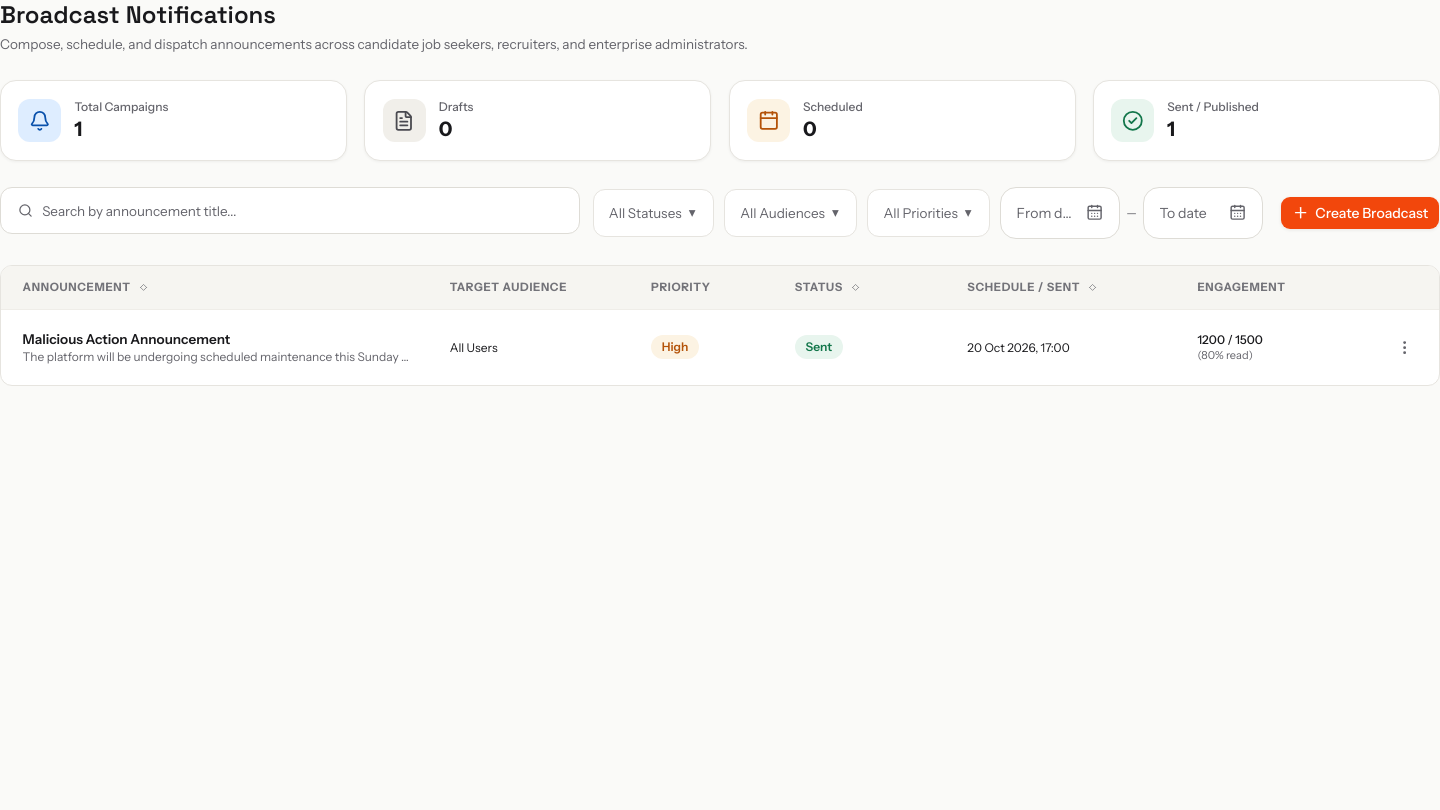
Broadcast Notifications Feature Tests (UC 01 - UC 07) › blocks unsafe javascript: URLs from rendering as clickable links in detail dialog
Click the text "Malicious Action Announcement" at x=126, y=339, box x1=23 y1=331 x2=230 y2=347
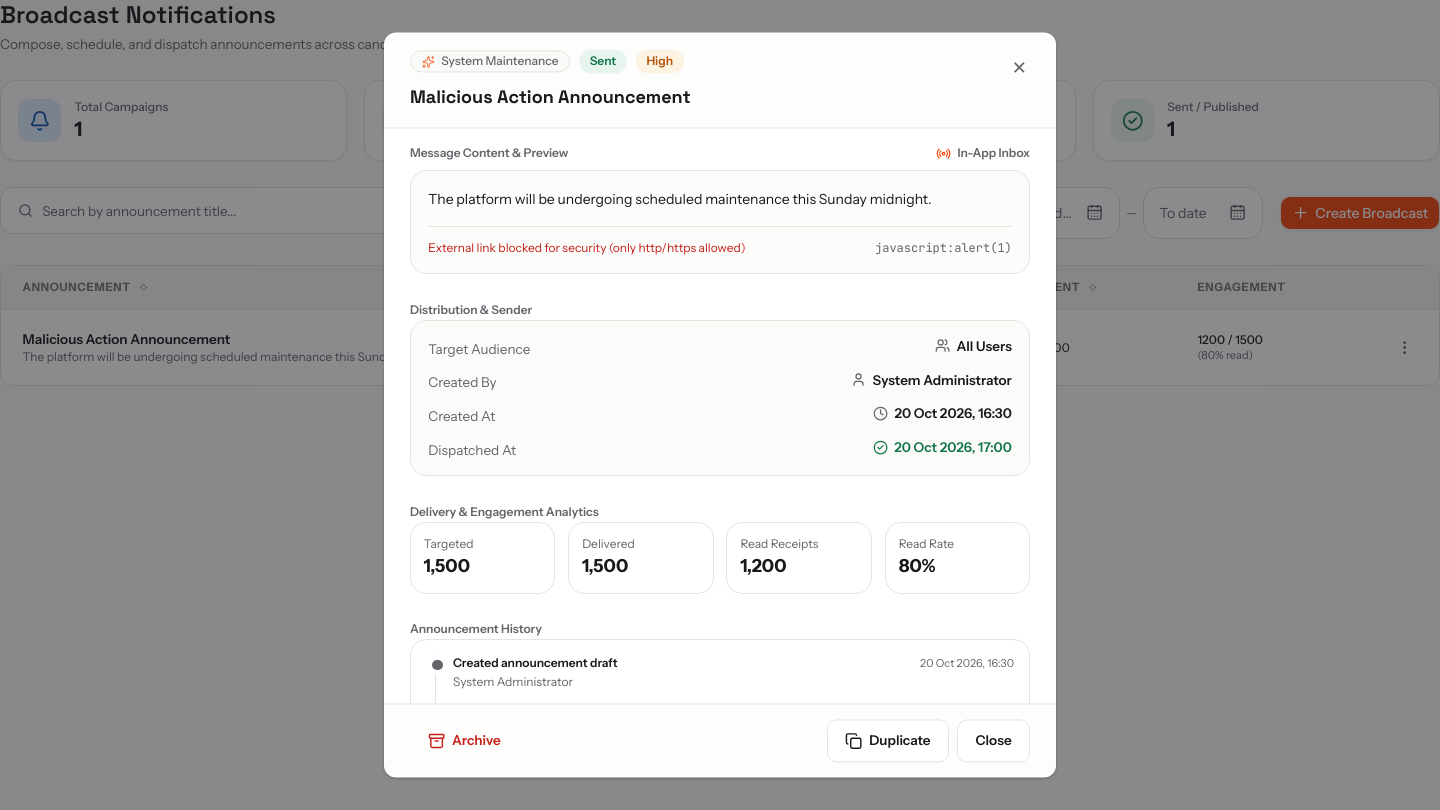
Expected: the text "External link blocked for security (only http/https allowed)" is shown, x1=428 y1=240 x2=746 y2=256
